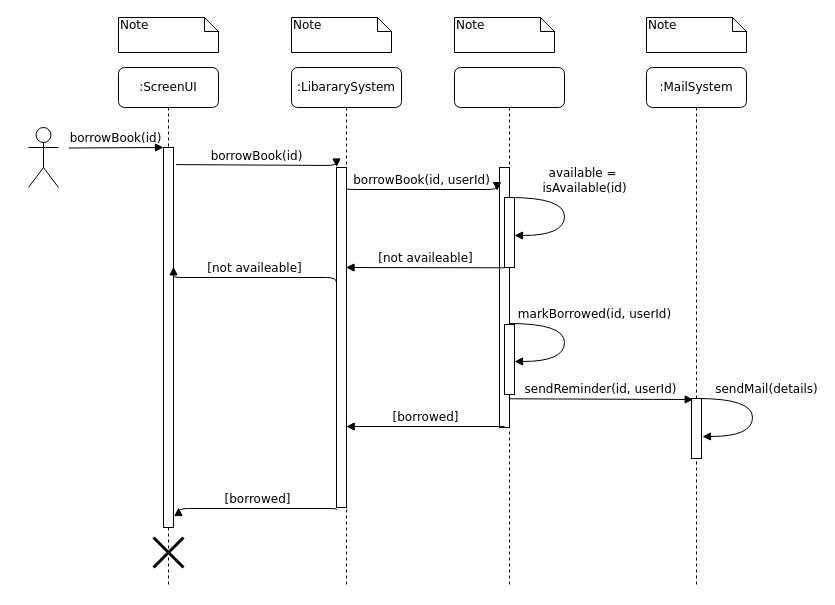
Image size: 835x605. Some labels were removed from this diagram. The shapes that lost their labels are listed below. From the top down, each one's centre as x and y in pixels, then its label:
At pixel 43 157: "Customer".
At pixel 509 327: ":BorrowingSys".
